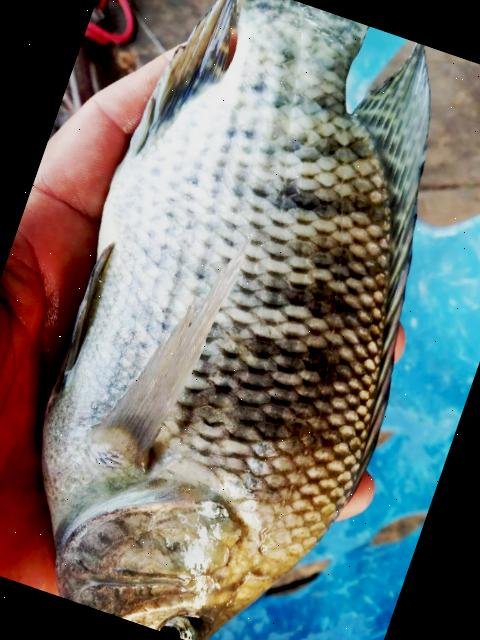Columnaris Disease: (41, 0, 429, 640)
